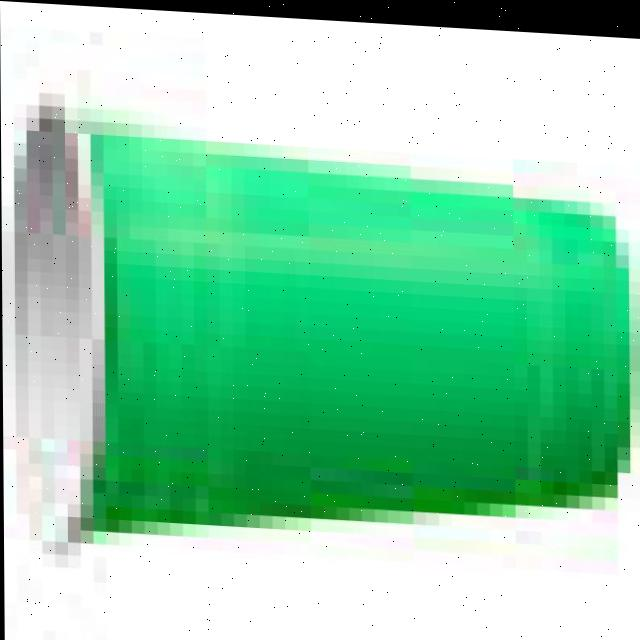cup: (0, 38, 640, 588)
